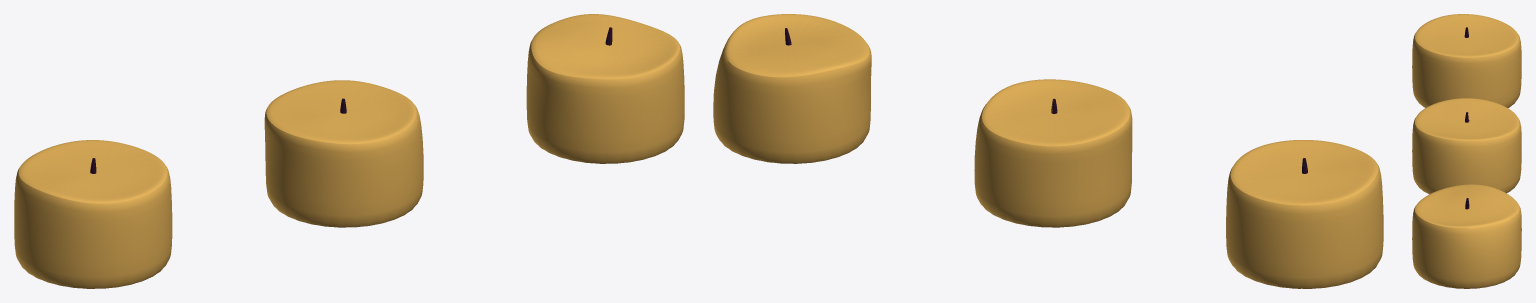
Rendered from Candles.fbx.
3 views of the same model, side by side, from view 1: azimuth 30°, elevation 25°; view 2: azimuth 150°, elevation 25°; view 3: azimuth 270°, elevation 25° (orthographic). The views are drawn at different scales.
Parts seen in each view (by area): view 1: CandleBody1, CandleBody1.002, CandleBody1.001; view 2: CandleBody1, CandleBody1.001, CandleBody1.002; view 3: CandleBody1.002, CandleBody1.001, CandleBody1.
Part boxes in pixels (x1,y1,x2,y2): CandleBody1: [14, 140, 172, 288]; CandleBody1.002: [526, 14, 684, 163]; CandleBody1.001: [264, 80, 423, 227]; CandleBody1: [1226, 140, 1383, 288]; CandleBody1.001: [974, 79, 1132, 227]; CandleBody1.002: [713, 14, 871, 163]; CandleBody1.002: [1412, 184, 1521, 288]; CandleBody1.001: [1412, 98, 1521, 194]; CandleBody1: [1412, 14, 1521, 107].
Size of the model in its own units: 908 by 143 by 193.
